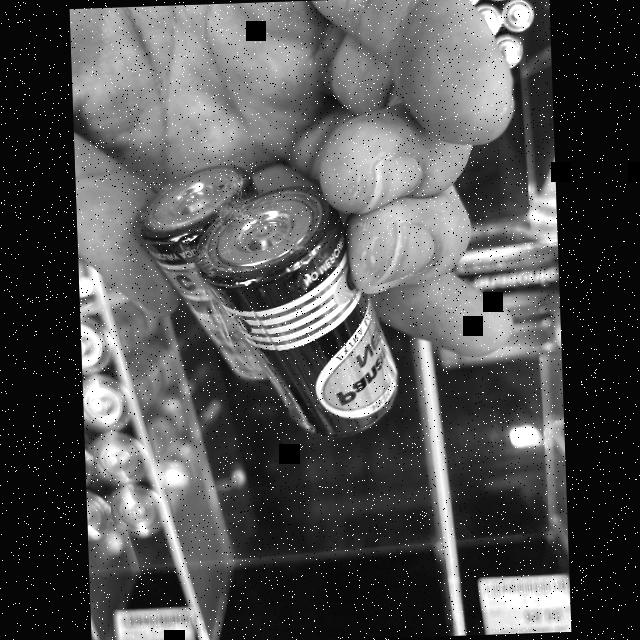battery: (193, 178, 408, 442), (147, 158, 278, 409)
